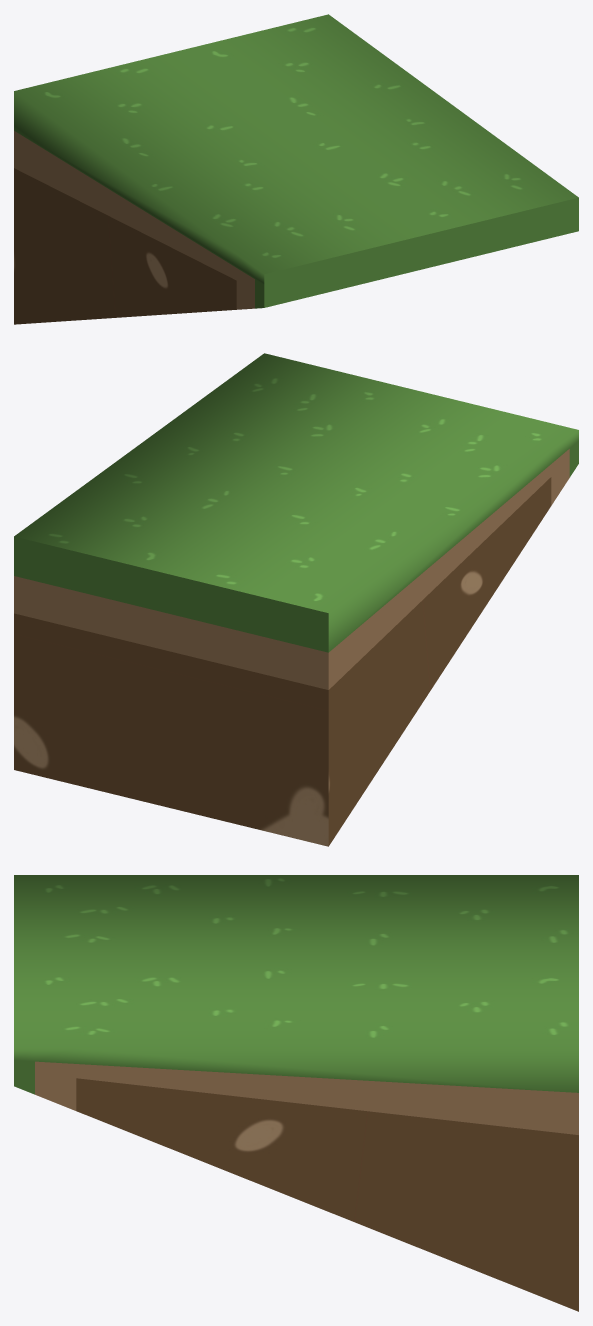
Rendered from GrassBlock_Triangle.fbx.
The picture shows the model from 3 angles, top to bottom: view 1: azimuth 30°, elevation 25°; view 2: azimuth 150°, elevation 25°; view 3: azimuth 270°, elevation 25°; orthographic projection. The views are drawn at different scales.
Visible parts, largest first — view 1: Land007; view 2: Land007; view 3: Land007.
Boxes of the visible parts, x1,y1,x2,y2 form: Land007: (14,14,578,324); Land007: (14,353,578,846); Land007: (14,875,578,1311).
Size of the model in its own units: 72.83 by 51.65 by 100.
Materials: 1 (1 with a texture image).
